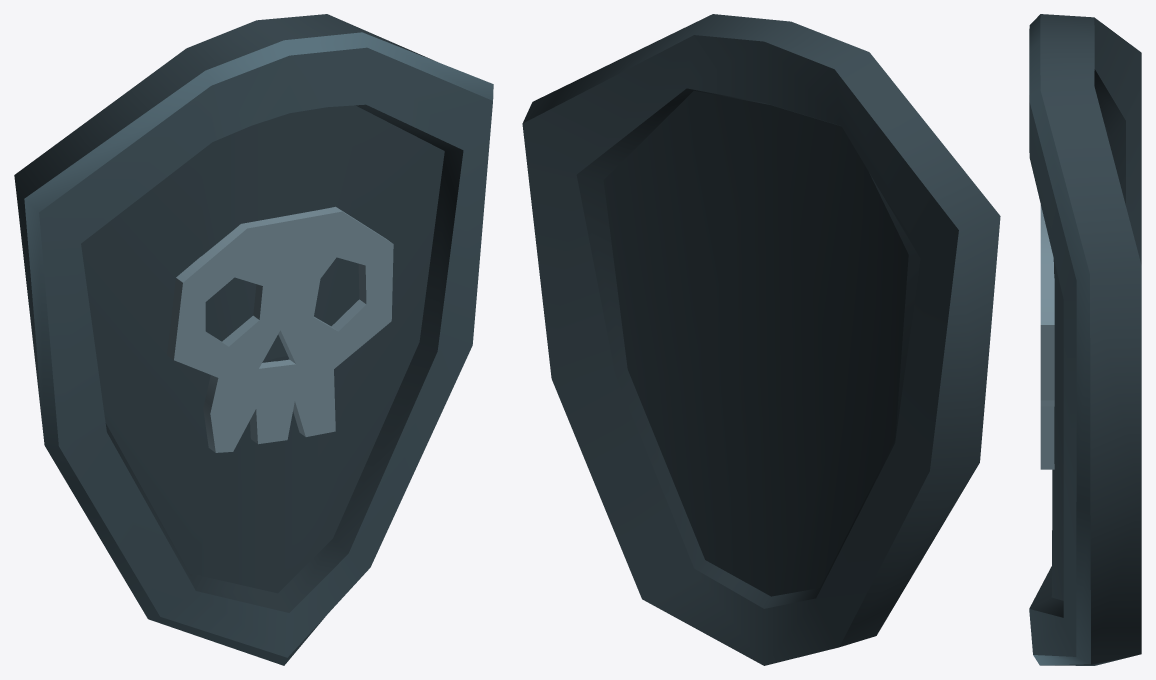
Rendered from wpms cap3b.fbx.
The picture shows the model from 3 angles, left to right: view 1: azimuth 30°, elevation 25°; view 2: azimuth 150°, elevation 25°; view 3: azimuth 270°, elevation 25°; orthographic projection.
Parts seen in each view (by area): view 1: wpms_cap3b; view 2: wpms_cap3b; view 3: wpms_cap3b.
Part boxes in pixels (left/top/right/bottom): wpms_cap3b: left=14, top=14, right=493, bottom=665; wpms_cap3b: left=522, top=14, right=1000, bottom=665; wpms_cap3b: left=1029, top=14, right=1141, bottom=665.
Bounding box in the file's own units: 80.94 × 103 × 16.85.
1 material, 1 textured.
